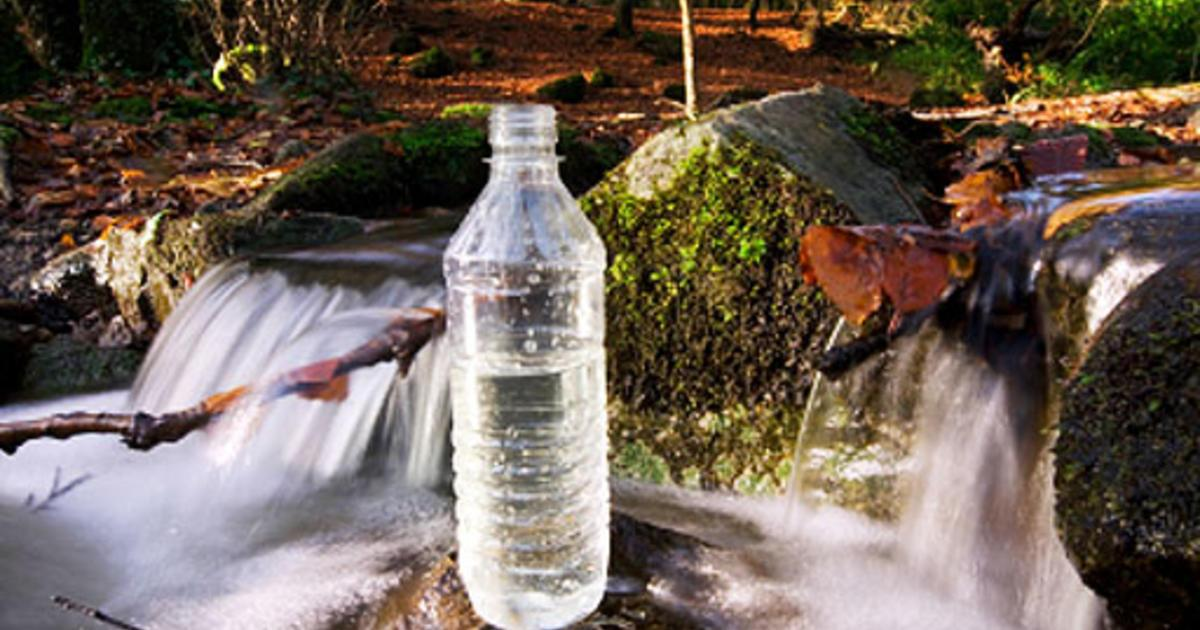bottle: (432, 83, 647, 630)
